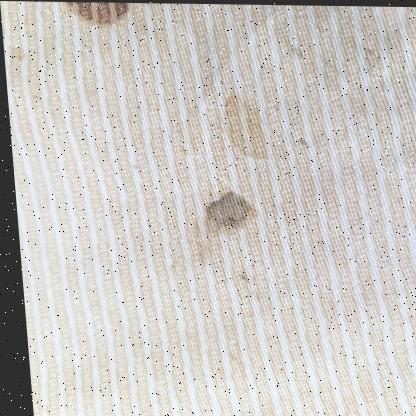spot: (222, 88, 269, 160), (199, 188, 251, 230), (65, 1, 134, 24), (184, 214, 215, 259), (6, 39, 30, 65), (355, 41, 383, 57), (284, 42, 307, 58), (290, 129, 310, 147), (233, 270, 252, 286), (124, 158, 140, 171), (30, 91, 39, 100)
